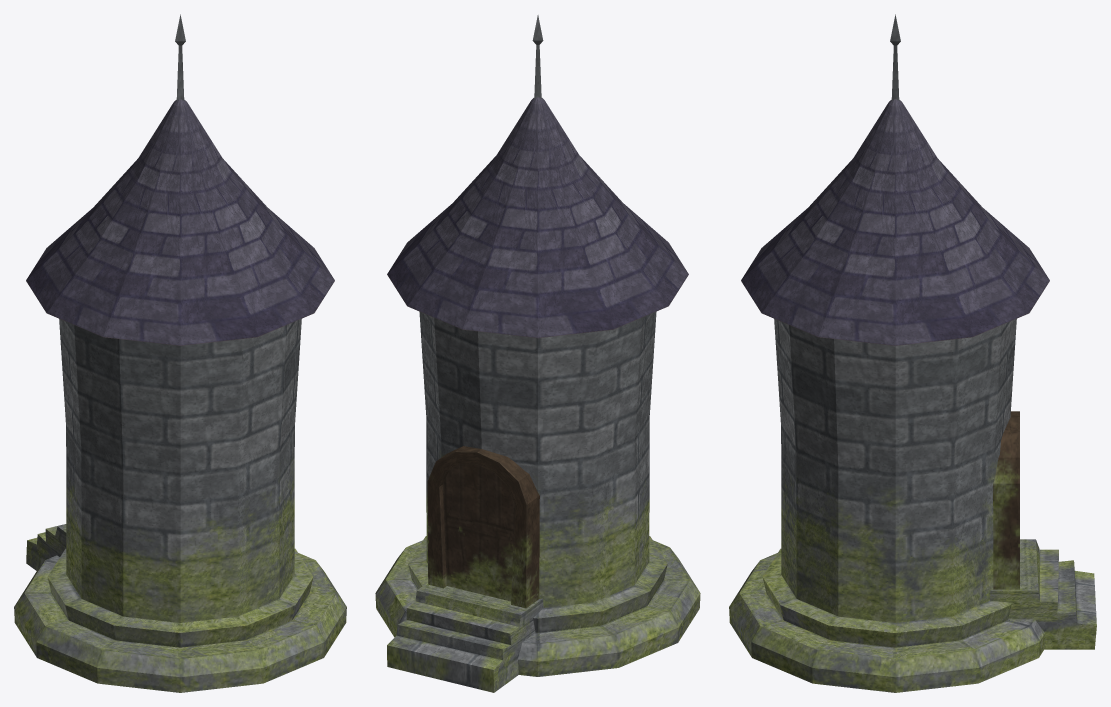
Rendered from Forest_Blocl.fbx.
The picture shows the model from 3 angles, left to right: view 1: azimuth 30°, elevation 25°; view 2: azimuth 150°, elevation 25°; view 3: azimuth 270°, elevation 25°; orthographic projection. The views are drawn at different scales.
Parts seen in each view (by area): view 1: Building; view 2: Building, Door; view 3: Building.
Boxes of the visible parts, x1,y1,x2,y2 form: Building: (14,14,346,692); Building: (375,15,700,692); Door: (442,464,514,601); Building: (729,14,1096,692).
Size of the model in its own units: 462 by 933 by 511.
